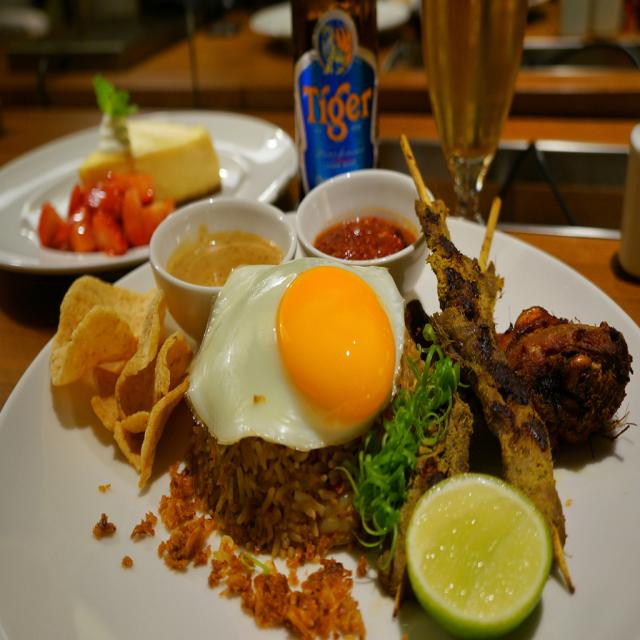Lemon: (404, 468, 556, 639)
